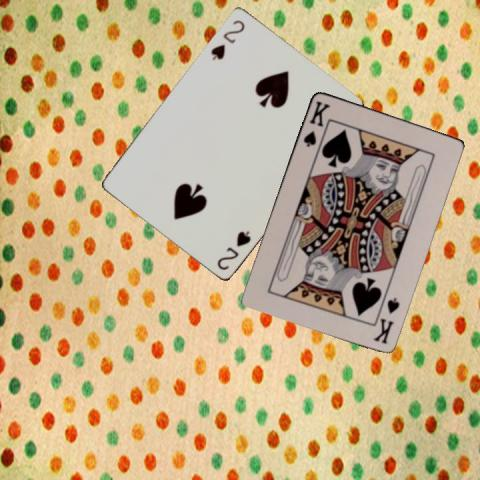2s: (214, 228, 253, 272), (208, 18, 247, 61)
Ks: (300, 97, 331, 148), (370, 294, 401, 345)
